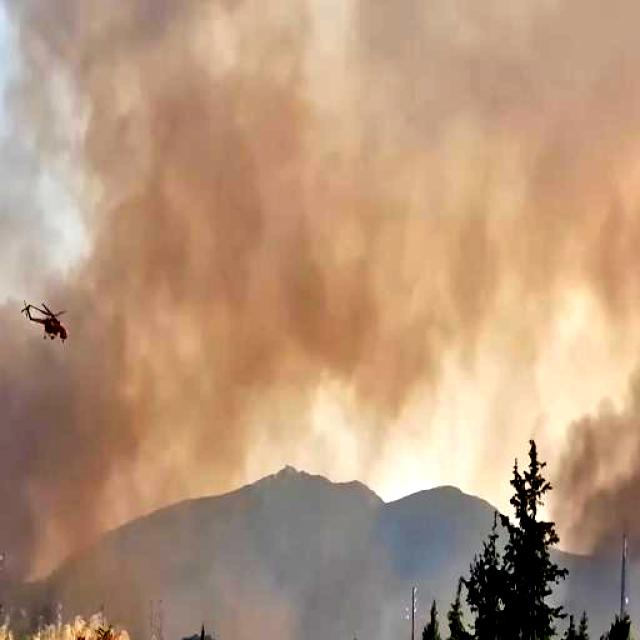drone: (18, 262, 85, 386)
